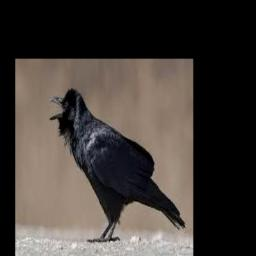Crow: (49, 87, 185, 242)
